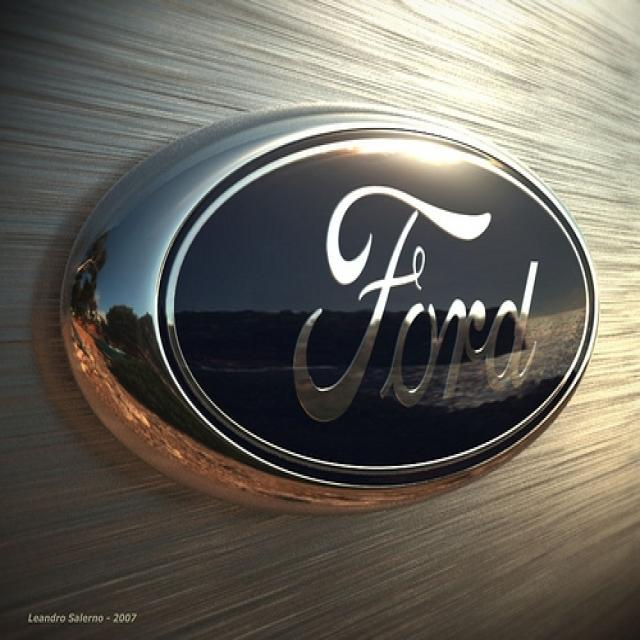ford: (130, 109, 608, 503)
